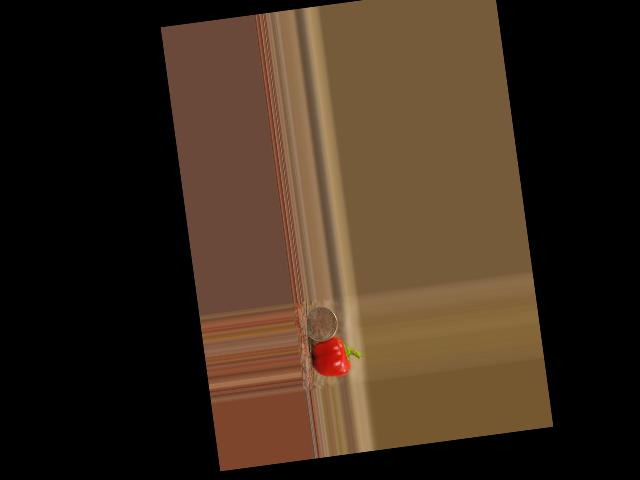bell_pepper: (308, 335, 363, 379)
